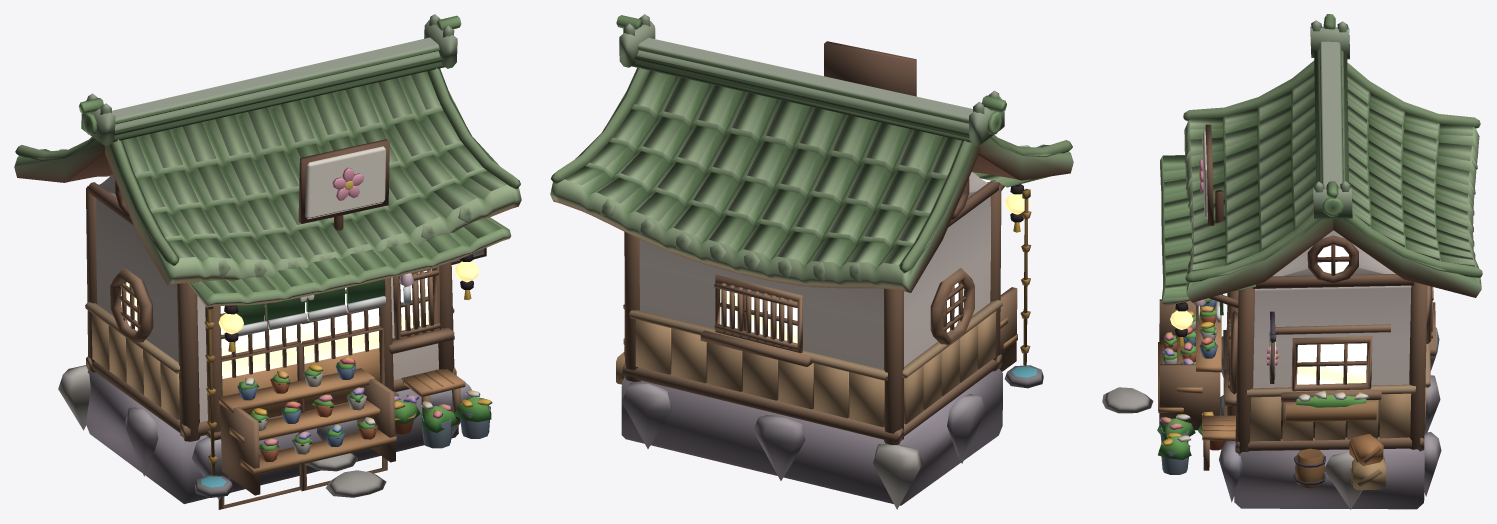
The model's file is shop-2-v2.glb.
3 renders of one model, left to right at view 1: azimuth 30°, elevation 25°; view 2: azimuth 150°, elevation 25°; view 3: azimuth 270°, elevation 25°, orthographic. The views are drawn at different scales.
Parts seen in each view (by area): view 1: shop-2-v2, window_glow; view 2: shop-2-v2, window_glow; view 3: shop-2-v2, window_glow.
Boxes of the visible parts, x1,y1,x2,y2 form: shop-2-v2: (14,14,521,509); window_glow: (121,261,479,378); shop-2-v2: (550,14,1073,509); window_glow: (720,194,1029,343); shop-2-v2: (1102,14,1482,509); window_glow: (1170,245,1366,384).
Size of the model in its own units: 3.46 by 3.4 by 3.27.
